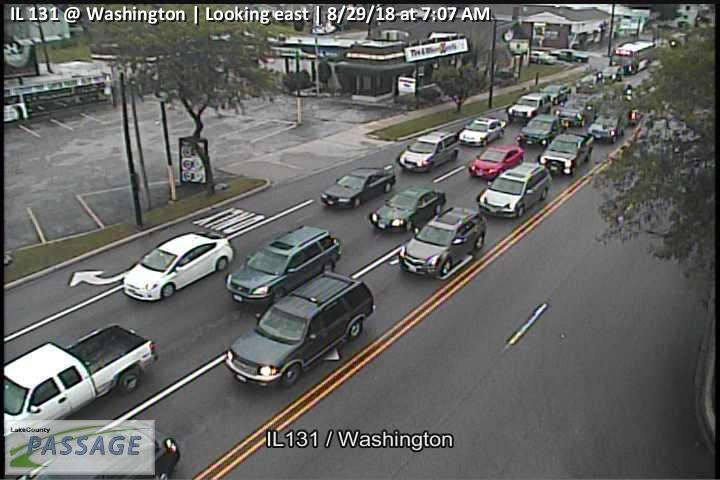SUV: (225, 272, 375, 389), (224, 224, 341, 305), (399, 206, 487, 279), (476, 162, 551, 218), (397, 127, 459, 172), (516, 114, 563, 148), (507, 92, 550, 124), (553, 97, 596, 128), (587, 115, 624, 144)
Sedan: (121, 232, 234, 301), (368, 187, 446, 231), (320, 167, 395, 207), (467, 141, 524, 181), (458, 116, 505, 148), (540, 83, 571, 106)
Truck: (4, 322, 158, 437), (537, 132, 594, 175), (609, 39, 654, 75)
